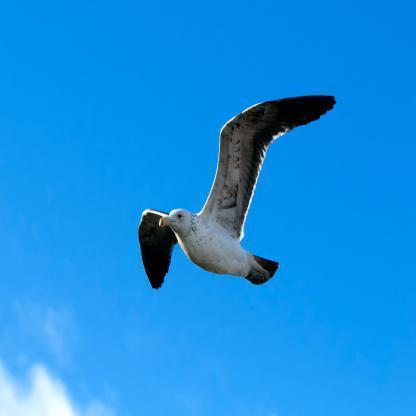bird: (138, 94, 337, 292)
